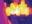Hotspot: (6, 0, 29, 15)
